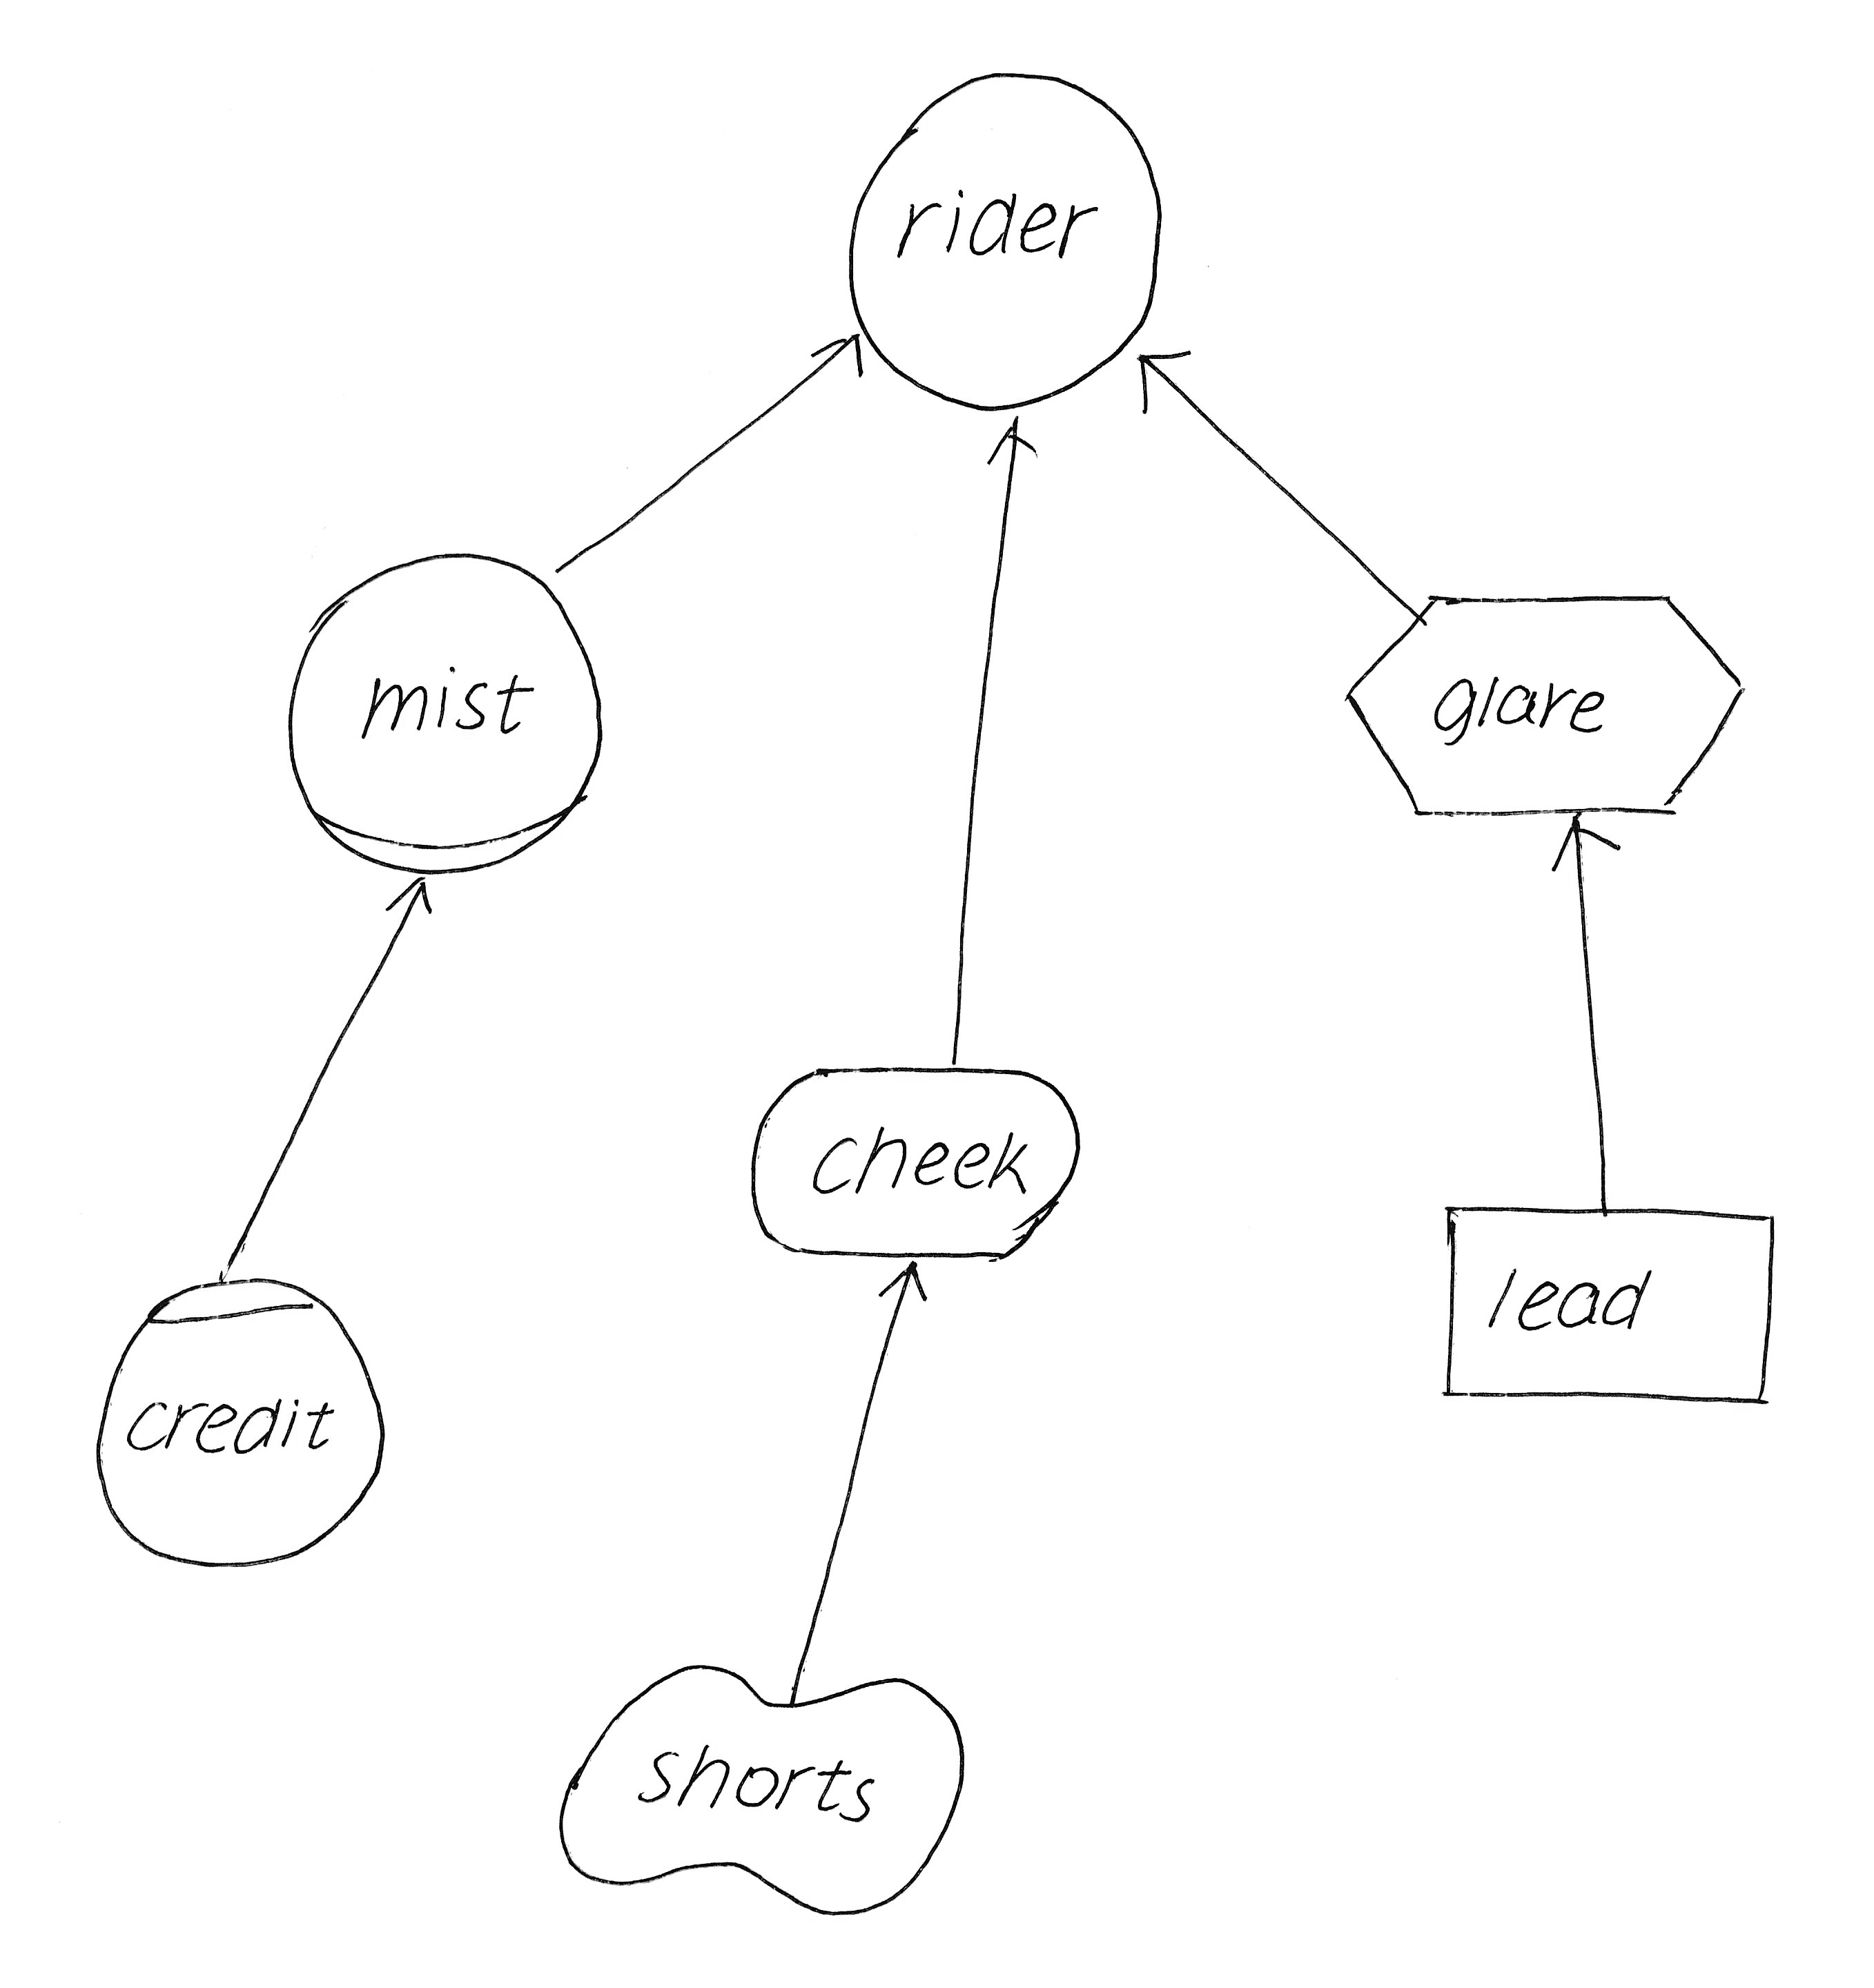actor: (833, 53, 1187, 431)
agent: (79, 1259, 409, 1574)
arrow: (1120, 336, 1206, 431), (1545, 803, 1633, 891), (796, 319, 891, 387), (974, 403, 1048, 484), (865, 1248, 948, 1315), (372, 865, 444, 930)
goal: (724, 1049, 1108, 1280)
quality: (539, 1643, 988, 1932)
resource: (1420, 1183, 1805, 1423)
role: (266, 528, 620, 893)
task: (1328, 569, 1768, 838)
